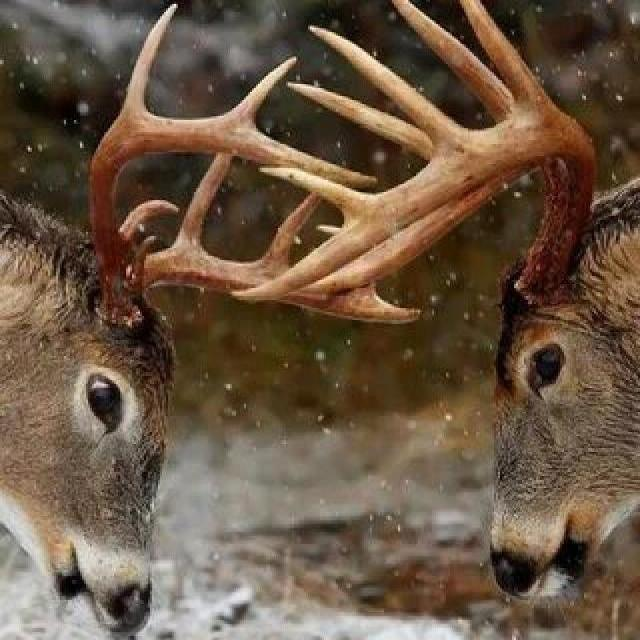deer: (300, 60, 640, 640), (0, 110, 258, 640)
